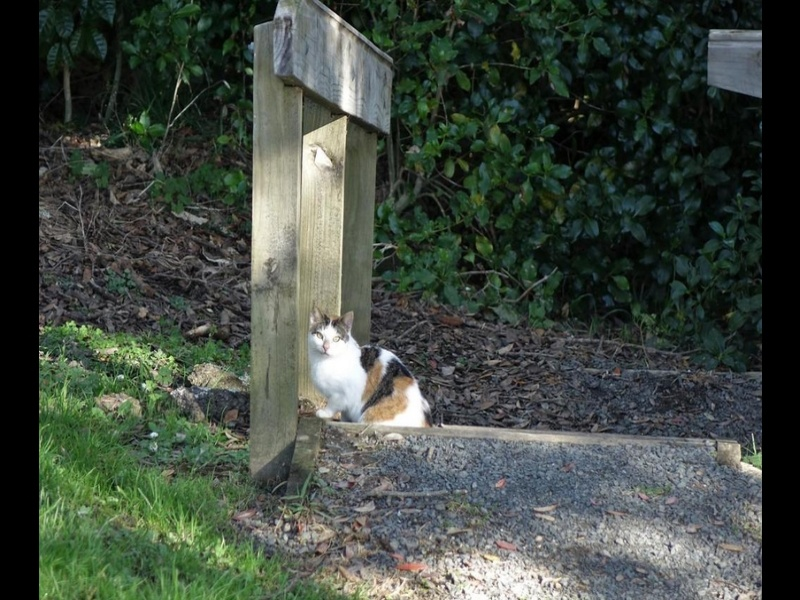cat: (303, 303, 439, 430)
